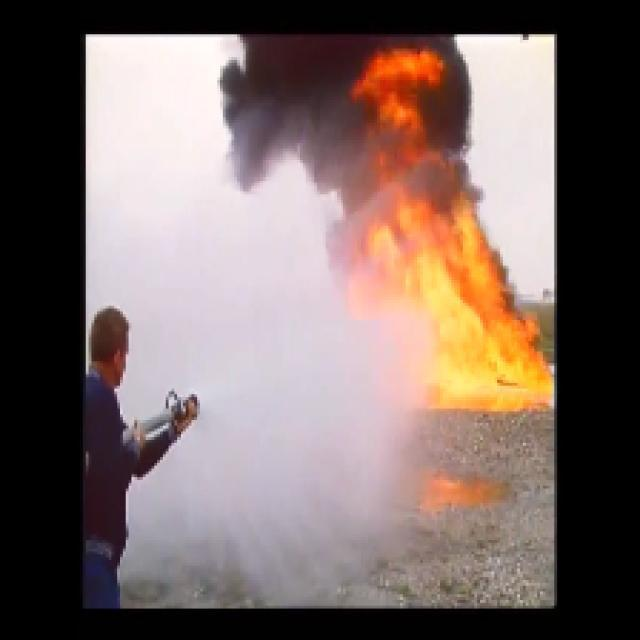Fire: (438, 246, 538, 394)
Smoke: (256, 36, 357, 158)
